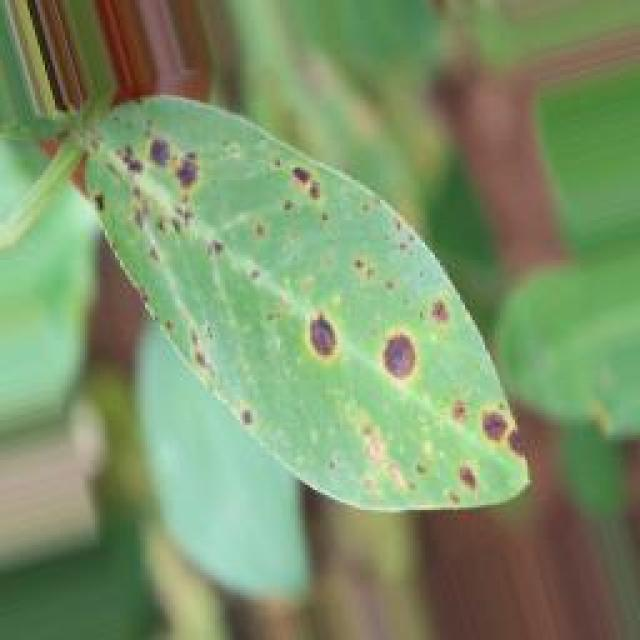Yellowish: (50, 13, 554, 565)
